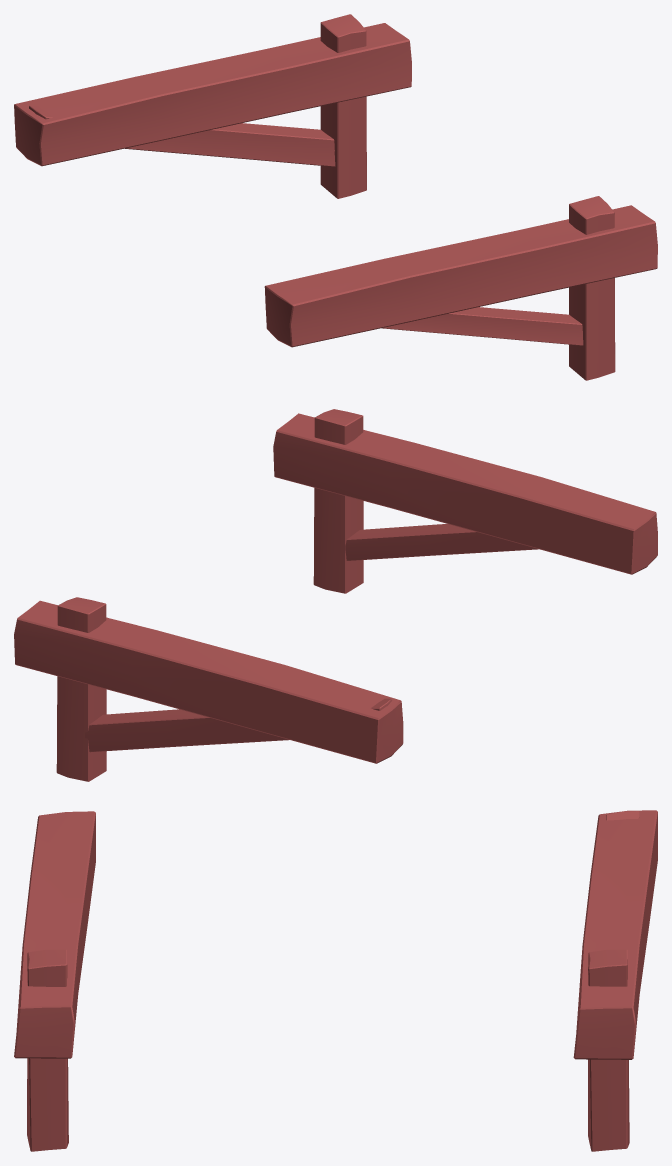
File: Shelf_Grp_05B_Lod0.fbx
The picture shows the model from 3 angles, top to bottom: view 1: azimuth 30°, elevation 25°; view 2: azimuth 150°, elevation 25°; view 3: azimuth 270°, elevation 25°; orthographic projection. The views are drawn at different scales.
Visible parts, largest first — view 1: Shelf_Grp_05B_Lod0; view 2: Shelf_Grp_05B_Lod0; view 3: Shelf_Grp_05B_Lod0.
Part boxes in pixels (box(x1,y1,x2,y2)): Shelf_Grp_05B_Lod0: box(14, 14, 657, 380); Shelf_Grp_05B_Lod0: box(14, 409, 657, 781); Shelf_Grp_05B_Lod0: box(14, 810, 657, 1151).
Bounding box in the file's own units: 95.16 × 41.6 × 129.
